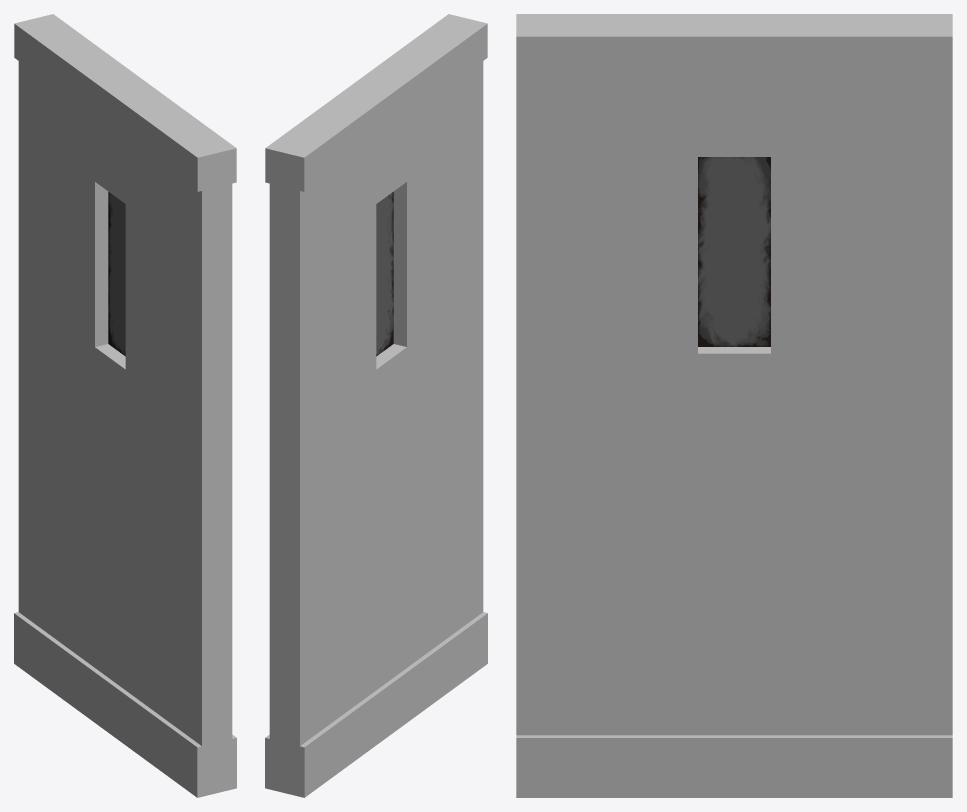
Rendered from LE_Laboratory_door.fbx.
3 views of the same model, side by side, from view 1: azimuth 30°, elevation 25°; view 2: azimuth 150°, elevation 25°; view 3: azimuth 270°, elevation 25° (orthographic). The views are drawn at different scales.
Visible parts, largest first — view 1: Cube.002; view 2: Cube.002; view 3: Cube.002.
Part boxes in pixels (x1,y1,x2,y2): Cube.002: (14,14,236,797); Cube.002: (265,14,487,797); Cube.002: (516,14,952,797).
Size of the model in its own units: 12.91 by 200 by 104.
